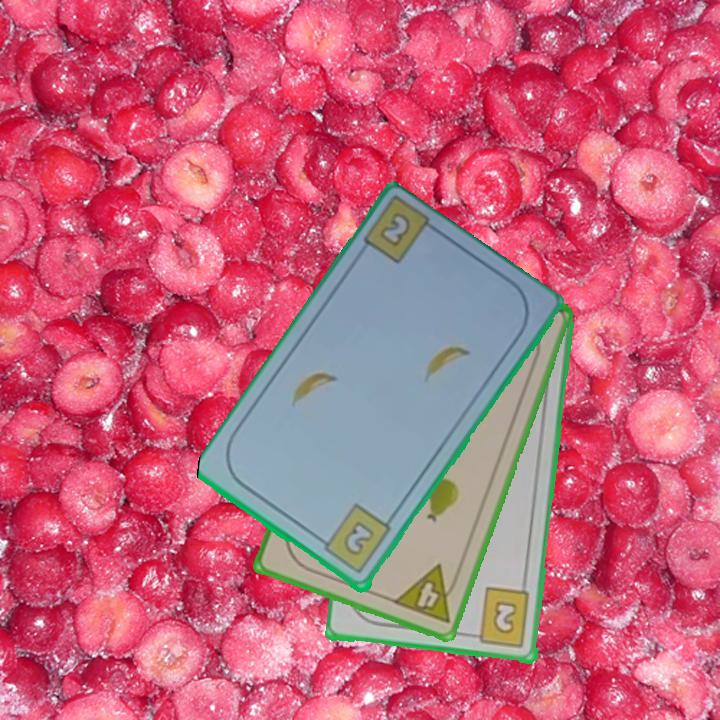2b: (314, 501, 394, 578), (467, 585, 533, 651), (376, 209, 414, 251)
4p: (389, 561, 464, 627)
